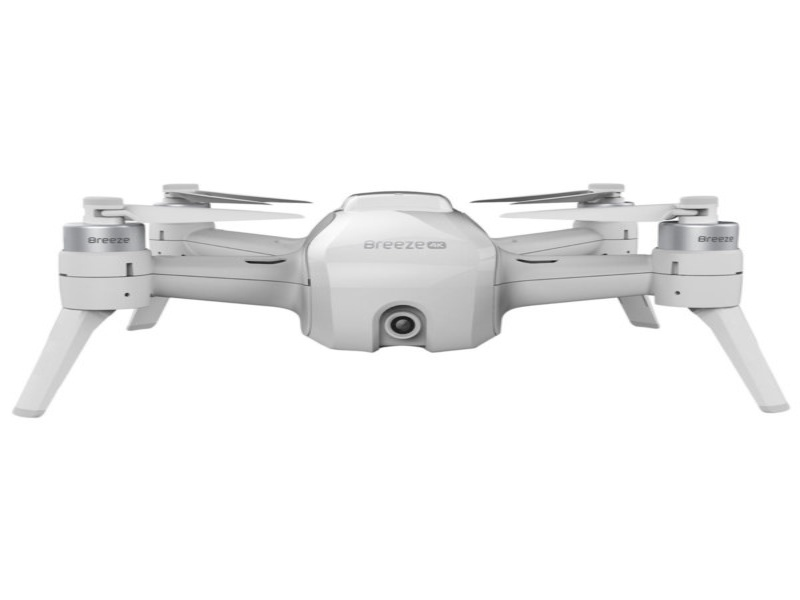drone: (10, 178, 791, 421)
